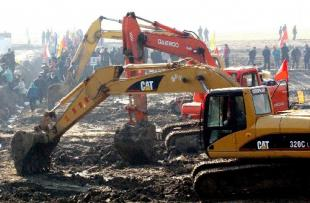excavator: (11, 61, 310, 203)
